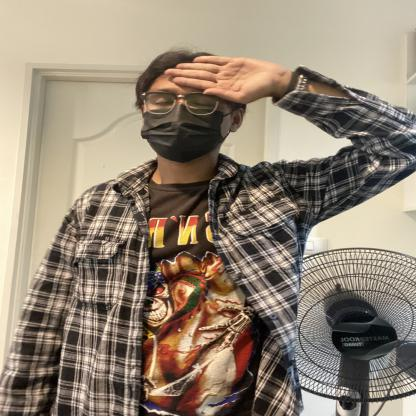Sick: (91, 30, 294, 149)
